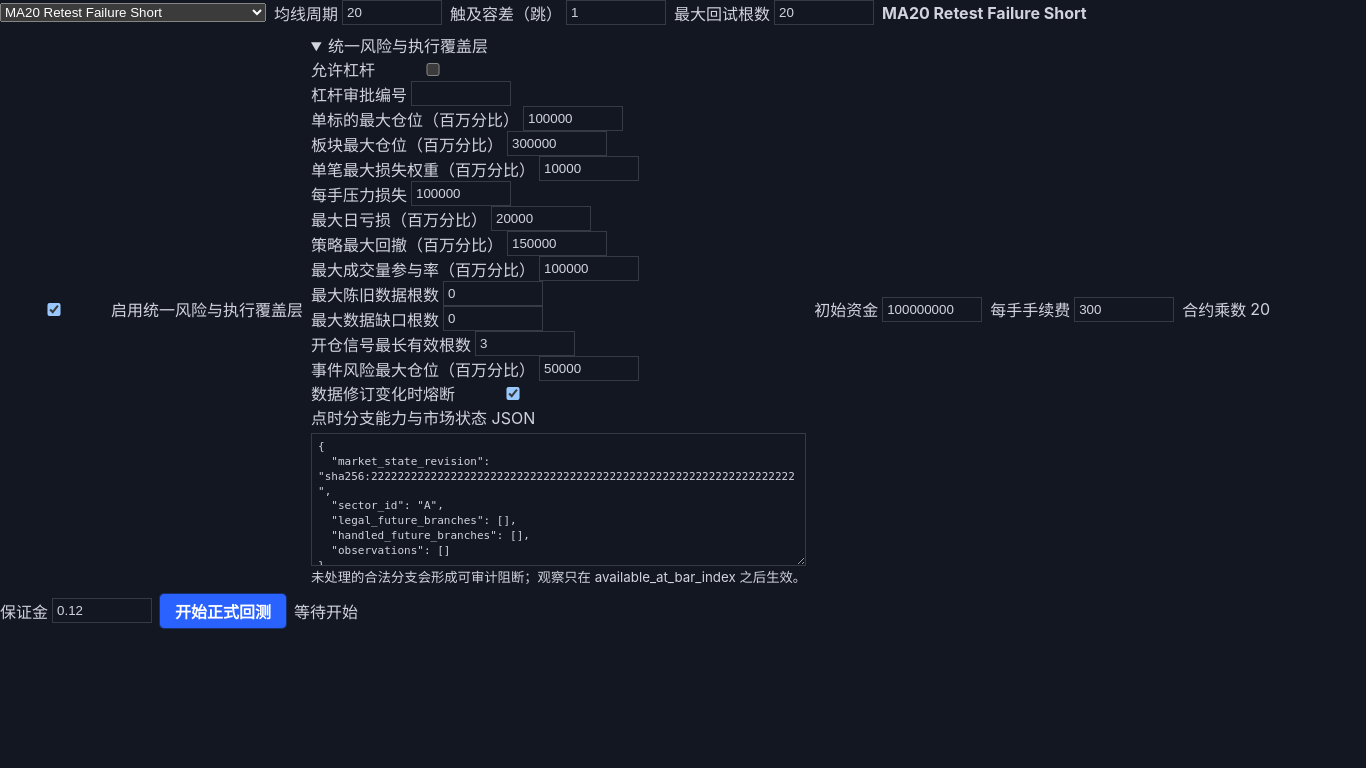
it: BacktestPanel › labels an old run without execution semantic_version instead of treating it as current
Click the button "开始正式回测" at (223, 611), box [160,594,286,628]
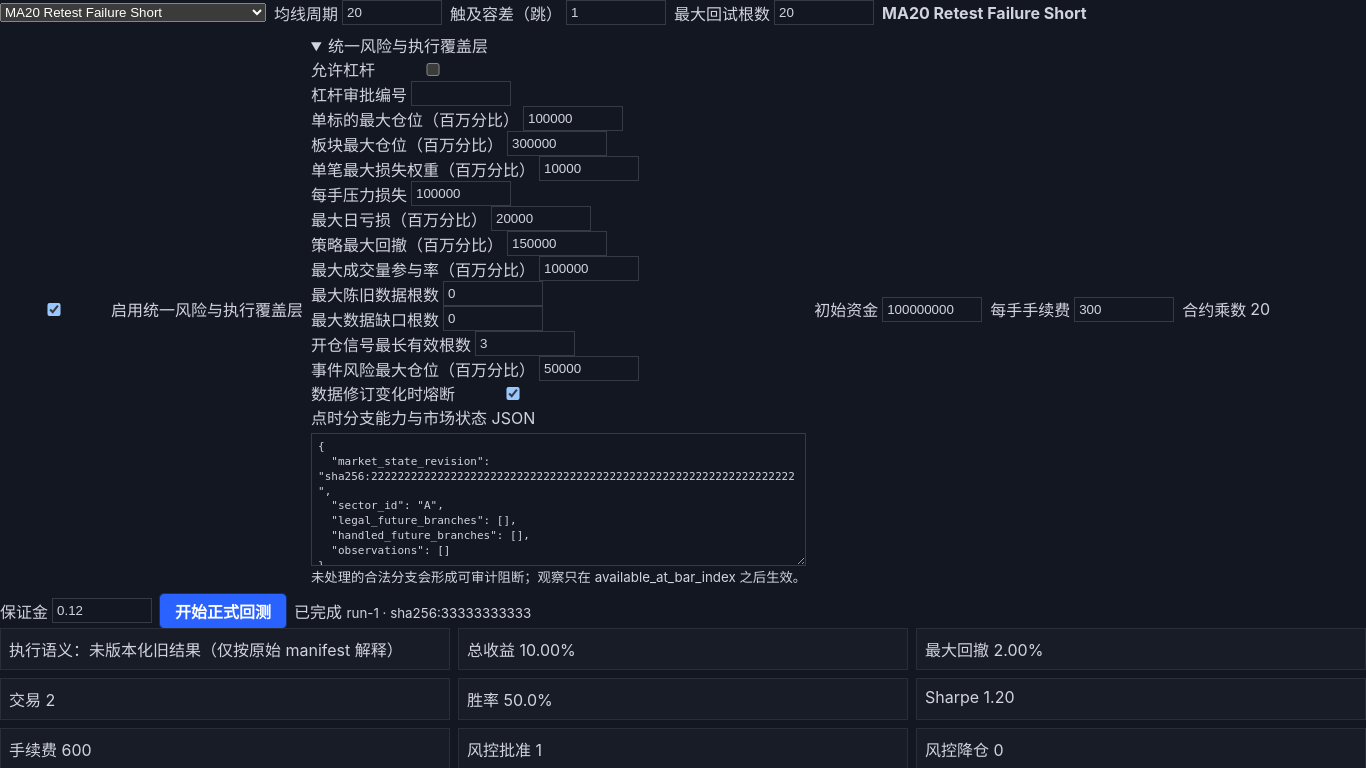
Expected: the text with class "execution-summary" shows "未版本化旧结果", [9,640,403,660]
